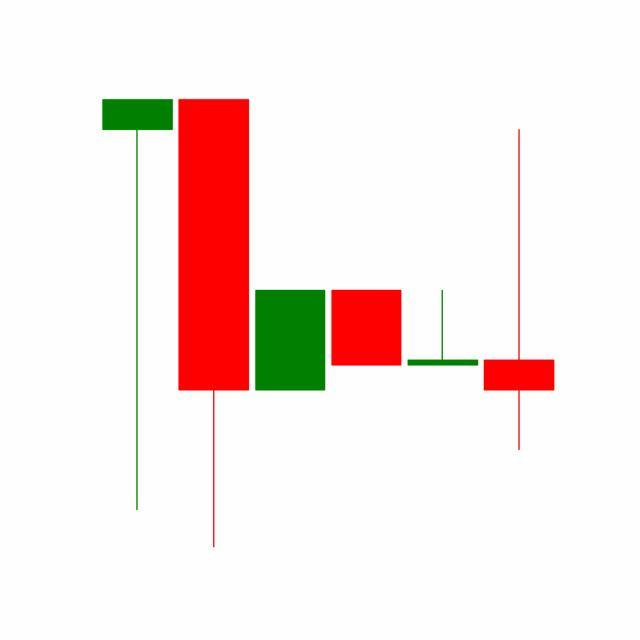Gravestone Doji: (404, 289, 482, 366)
